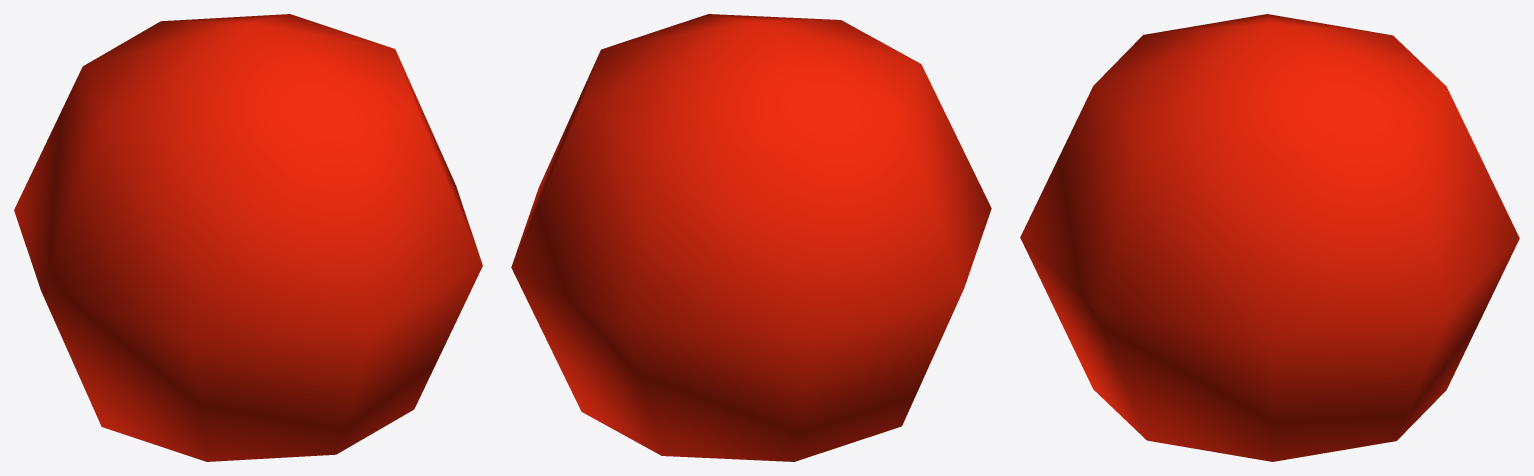
File: Onament_Art.fbx
3 views of the same model, side by side, from view 1: azimuth 30°, elevation 25°; view 2: azimuth 150°, elevation 25°; view 3: azimuth 270°, elevation 25° (orthographic).
Visible parts, largest first — view 1: Onament_Art; view 2: Onament_Art; view 3: Onament_Art.
Boxes of the visible parts, <box> form: Onament_Art: <box>14,14,482,461</box>; Onament_Art: <box>511,14,991,461</box>; Onament_Art: <box>1020,14,1519,461</box>.
Size of the model in its own units: 0.2971 by 0.2911 by 0.3071.
